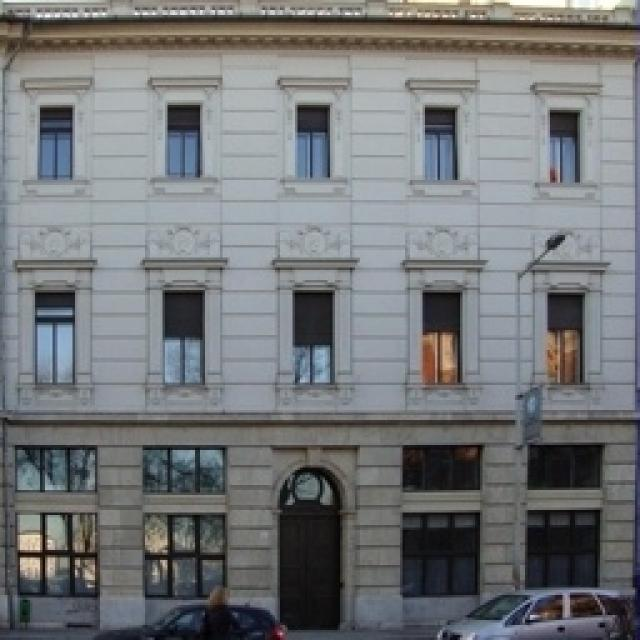Window: (17, 515, 95, 595), (404, 515, 478, 595), (145, 515, 225, 583), (527, 515, 595, 585), (145, 448, 225, 492), (35, 292, 73, 382), (162, 292, 200, 380), (18, 450, 98, 490), (405, 448, 480, 488), (424, 292, 458, 380), (298, 292, 332, 380), (548, 295, 580, 383), (530, 448, 600, 488), (424, 104, 458, 178), (548, 110, 578, 182), (40, 108, 70, 178), (168, 105, 198, 175), (297, 107, 325, 175)
